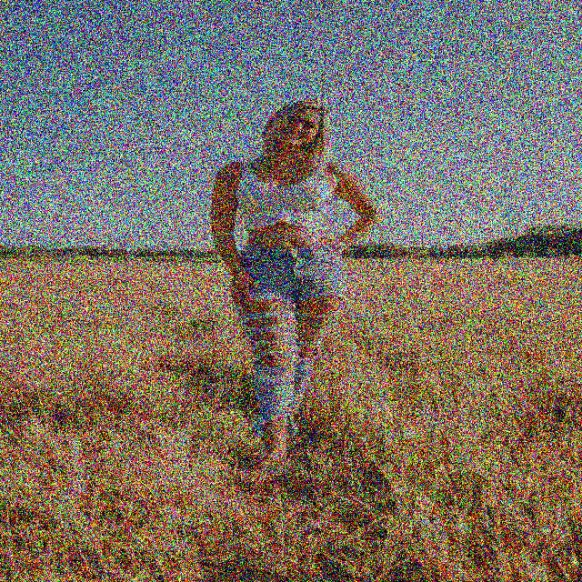Crop_Top: (235, 189, 334, 248)
Sleeveless: (326, 158, 353, 188), (213, 161, 243, 187)
low_neckline: (235, 155, 336, 229)
ripped_pants: (236, 245, 343, 432)
